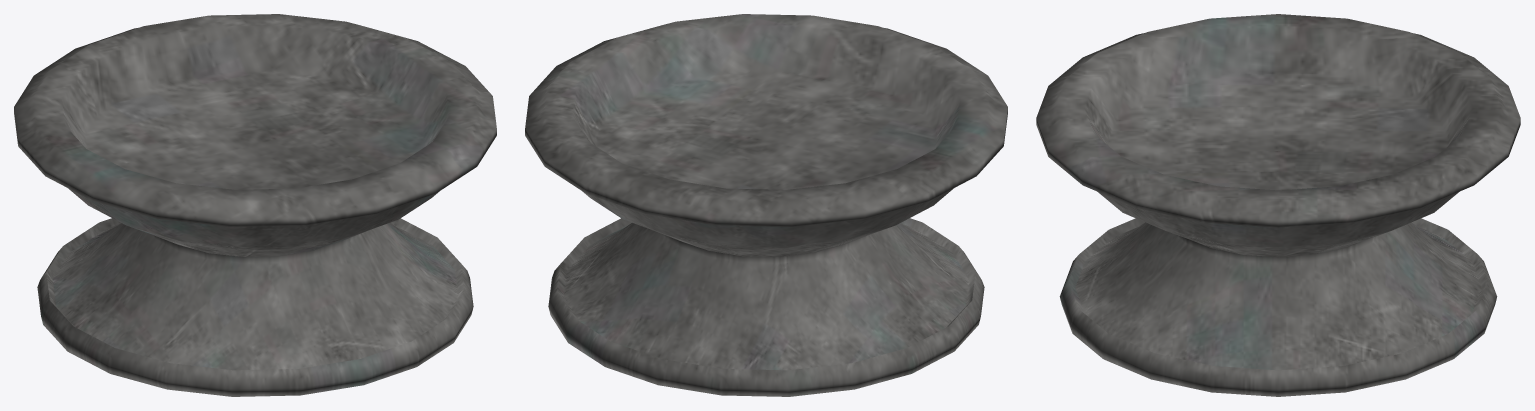
The model's file is SM_CandleHolder_Iron.glb.
3 views of the same model, side by side, from view 1: azimuth 30°, elevation 25°; view 2: azimuth 150°, elevation 25°; view 3: azimuth 270°, elevation 25° (orthographic).
Visible parts, largest first — view 1: SM_CandleHolder_Iron; view 2: SM_CandleHolder_Iron; view 3: SM_CandleHolder_Iron.
Part boxes in pixels (x1=…): SM_CandleHolder_Iron: x1=14, y1=14, x2=496, y2=396; SM_CandleHolder_Iron: x1=525, y1=14, x2=1007, y2=396; SM_CandleHolder_Iron: x1=1036, y1=14, x2=1520, y2=396.
Bounding box in the file's own units: 0.182 × 0.0818 × 0.182.
Materials: 1 (1 with a texture image).
